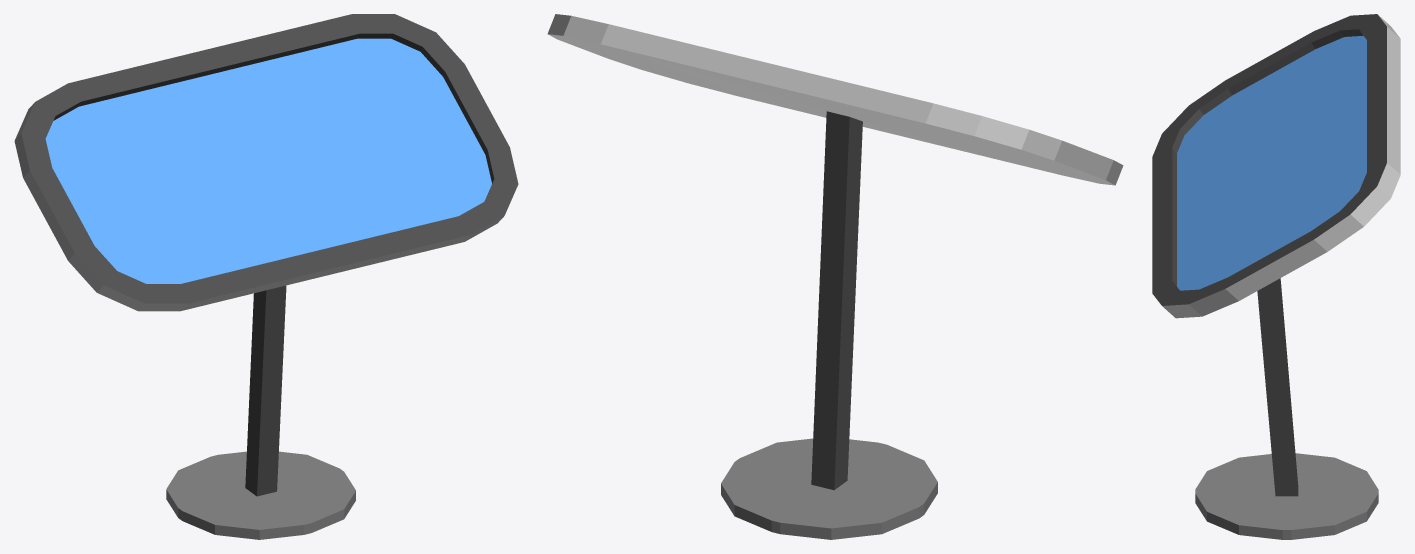
The model's file is ApplePay 1.fbx.
3 renders of one model, left to right at view 1: azimuth 30°, elevation 25°; view 2: azimuth 150°, elevation 25°; view 3: azimuth 270°, elevation 25°, orthographic. The views are drawn at different scales.
Parts seen in each view (by area): view 1: ApplePay; view 2: ApplePay; view 3: ApplePay.
Part boxes in pixels (left/top/right/bottom): ApplePay: left=14, top=14, right=518, bottom=539; ApplePay: left=547, top=14, right=1123, bottom=539; ApplePay: left=1152, top=14, right=1400, bottom=539.
Size of the model in its own units: 27.19 by 24.72 by 13.7.
